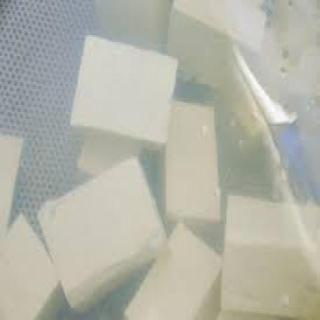Tahu: (73, 35, 179, 148)
